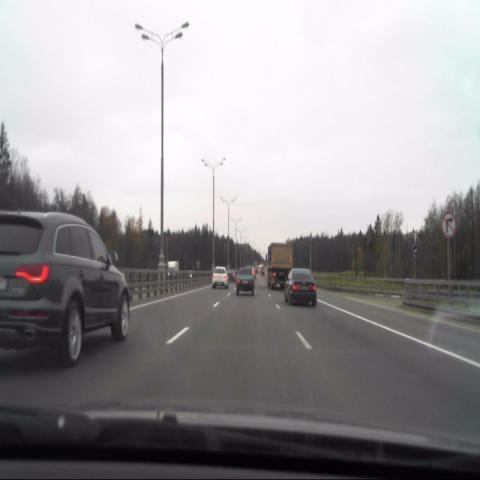3_18: (440, 212, 456, 239)
